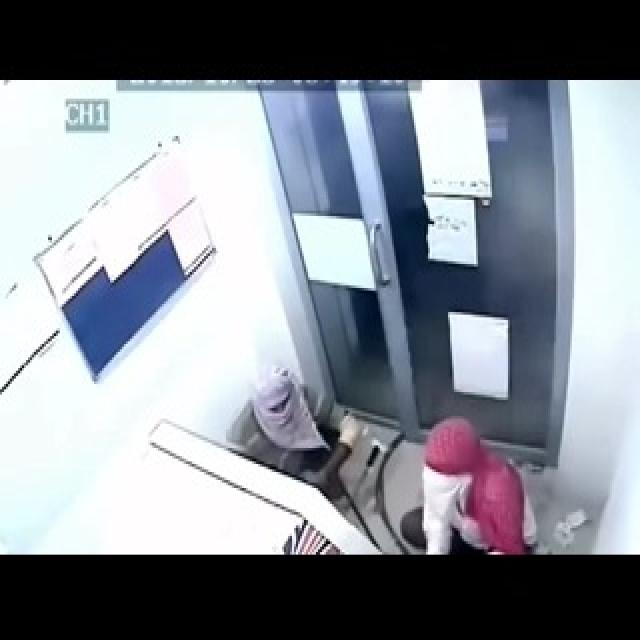thief: (206, 351, 372, 490), (421, 396, 550, 554)
